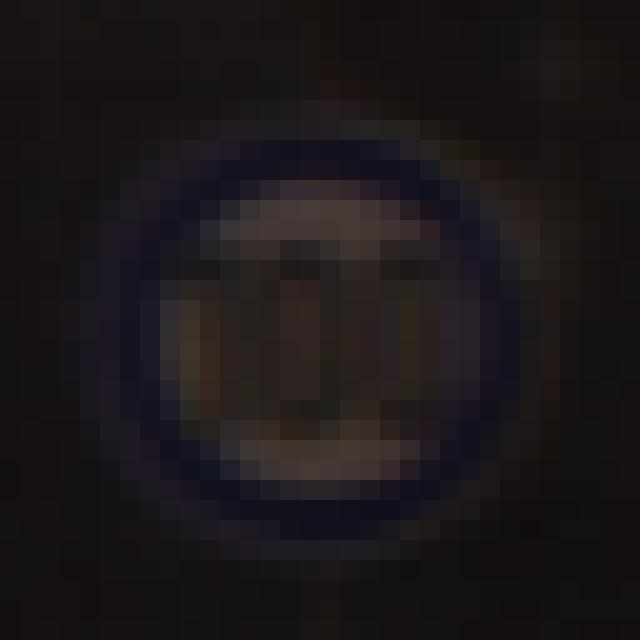SPEED LIMIT 100: (120, 135, 532, 530)
